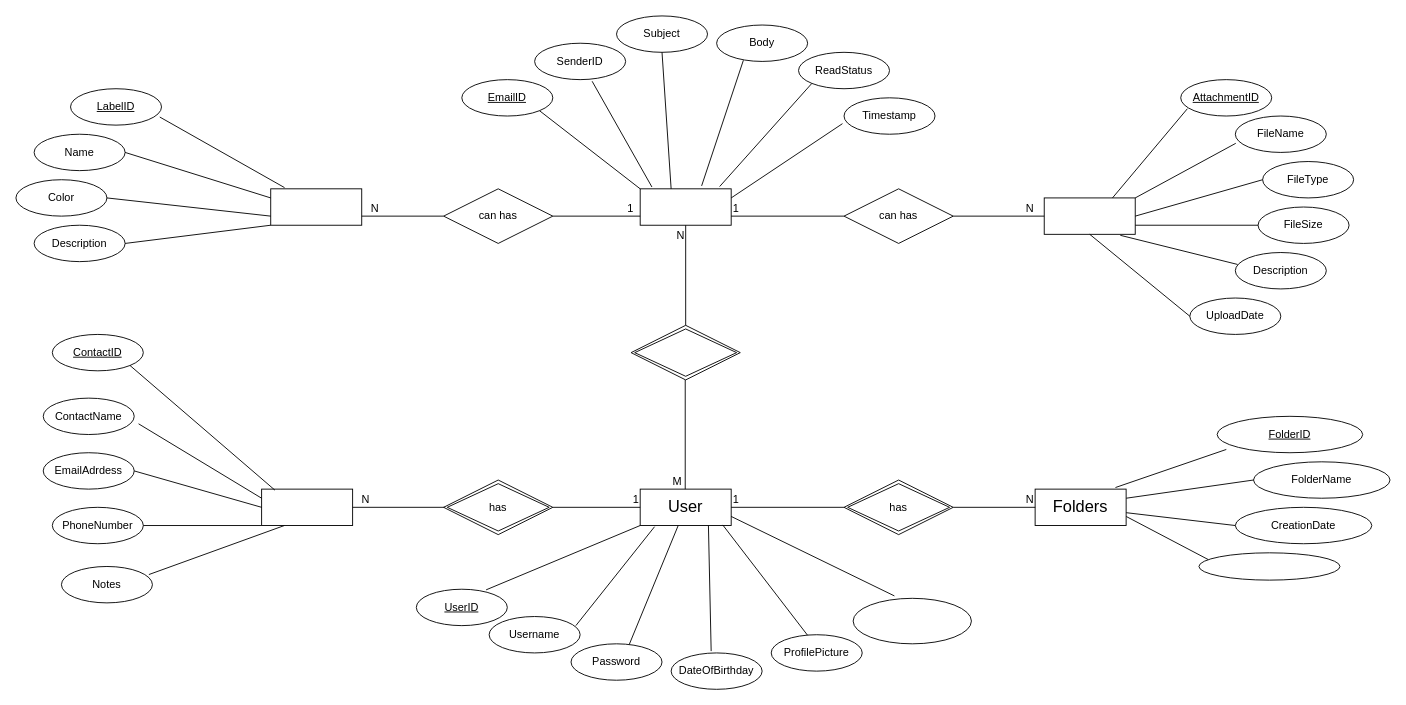
This 1406x705 diagram has some shape labels left out. Here are the shapes that lost their labels. From the top down, the box of each, then its label:
(270, 188, 362, 225): Label
(639, 188, 731, 225): Email
(1043, 197, 1135, 234): Attachment
(630, 324, 740, 380): have
(261, 488, 353, 526): Contact
(1198, 552, 1340, 580): LastModifiedDate
(852, 597, 971, 644): AccountCreationDate
